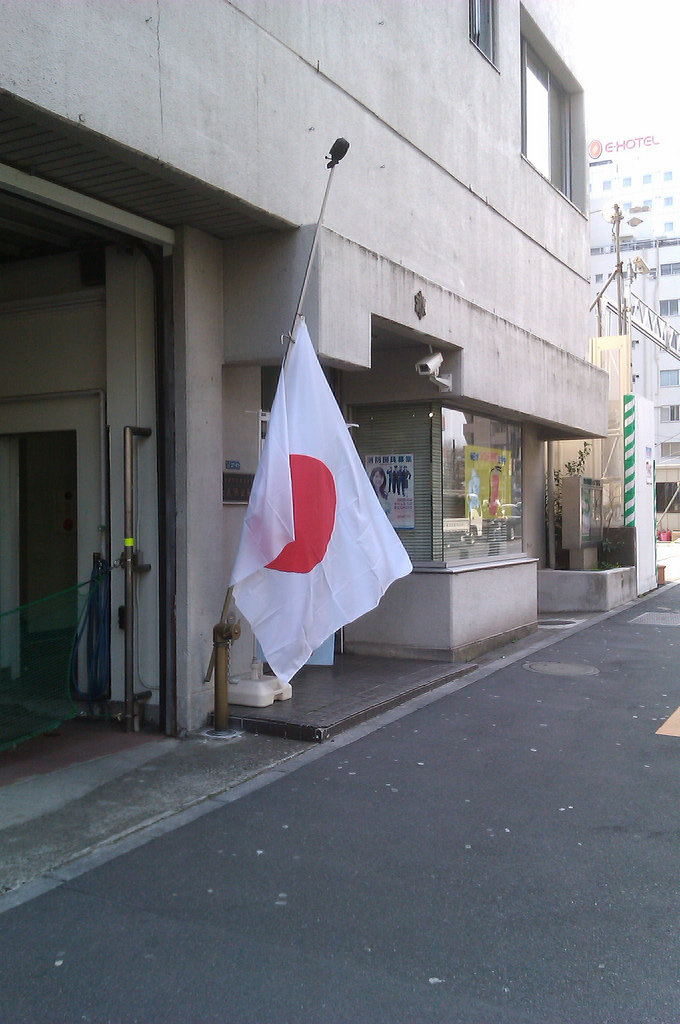Flag: (227, 306, 415, 691)
